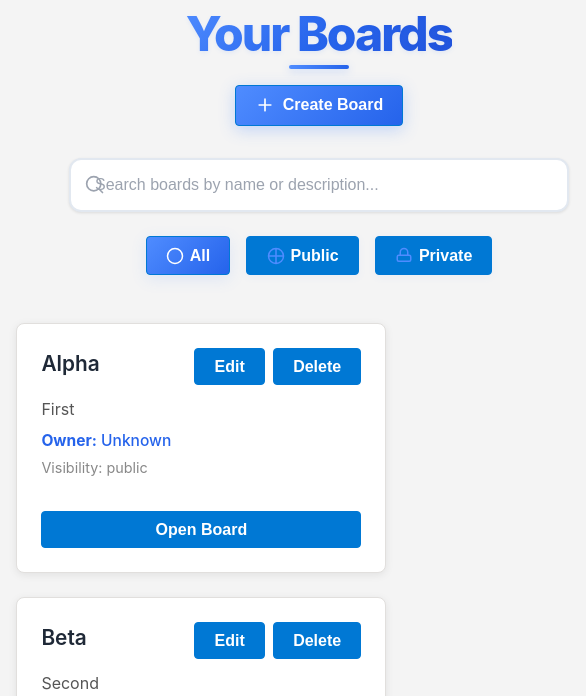
Test: DashboardPage › shows boards and filters by search
This screenshot has width=586, height=696.
Expected: the text "Alpha" is shown, [41,348,100,379]
Expected: the text "Beta" is shown, [41,622,87,653]
Search for Beta
Type "Beta" into the field with placeholder "Search boards by name or description...".
click(319, 185); type("Beta")  # box [69,158,569,212]
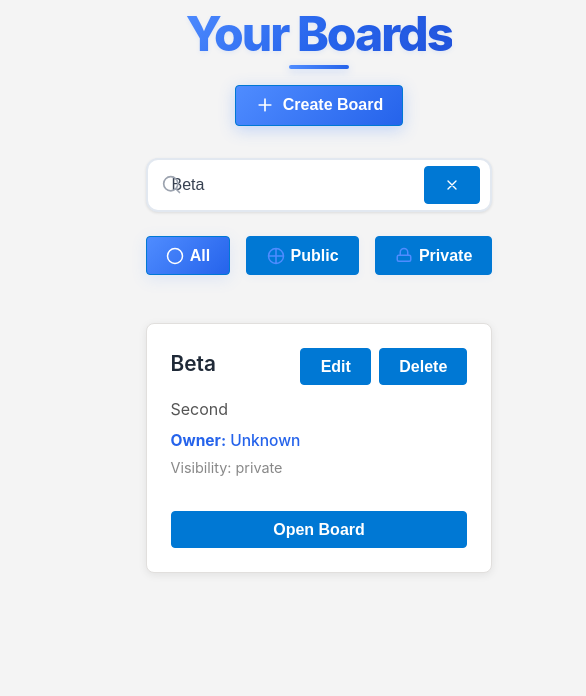
Expected: the text "Beta" is shown, [170,348,216,379]
Now the text "Alpha" is gone
Search for nothing
Clear the field with placeholder "Search boards by name or description..." at (319,185), box [146,158,492,212]
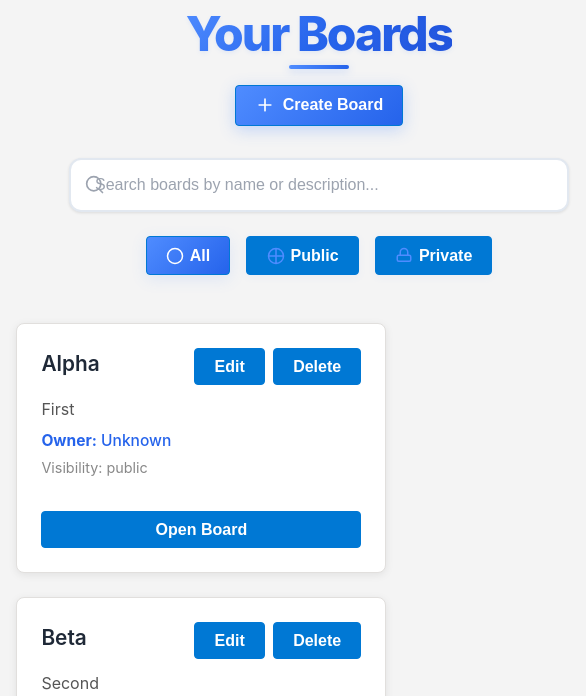
Expected: the text "Beta" is shown, [41,622,87,653]
Now the text "Alpha" is shown, box [41,348,100,379]
